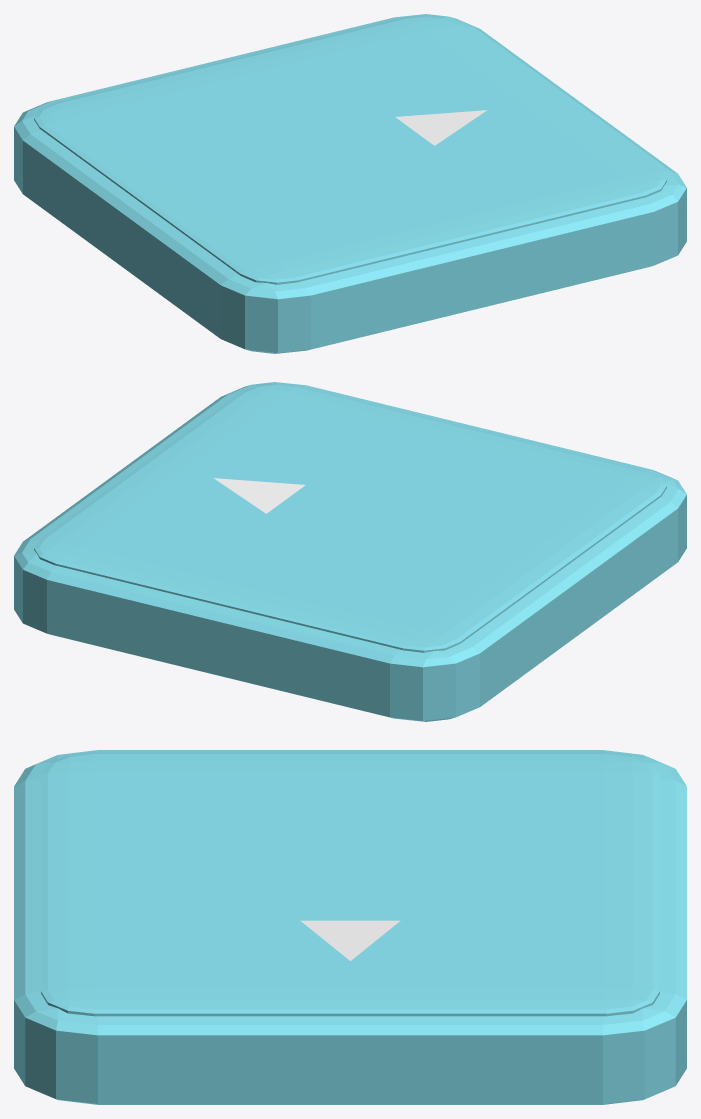
The model's file is turnleft.fbx.
3 views of the same model, one above another, from view 1: azimuth 30°, elevation 25°; view 2: azimuth 150°, elevation 25°; view 3: azimuth 270°, elevation 25° (orthographic). The views are drawn at different scales.
Visible parts, largest first — view 1: 立方体.001, 立方体, ArrowLeft; view 2: 立方体.001, 立方体, ArrowLeft; view 3: 立方体.001, 立方体, ArrowLeft.
Boxes of the visible parts, x1,y1,x2,y2 form: 立方体.001: (34,15,666,284); 立方体: (14,14,686,353); ArrowLeft: (395,110,487,145); 立方体.001: (34,383,666,652); 立方体: (14,382,686,721); ArrowLeft: (213,478,305,513); 立方体.001: (41,752,659,1016); 立方体: (14,750,686,1104); ArrowLeft: (300,920,400,960).
Size of the model in its own units: 200 by 31.9 by 200.
